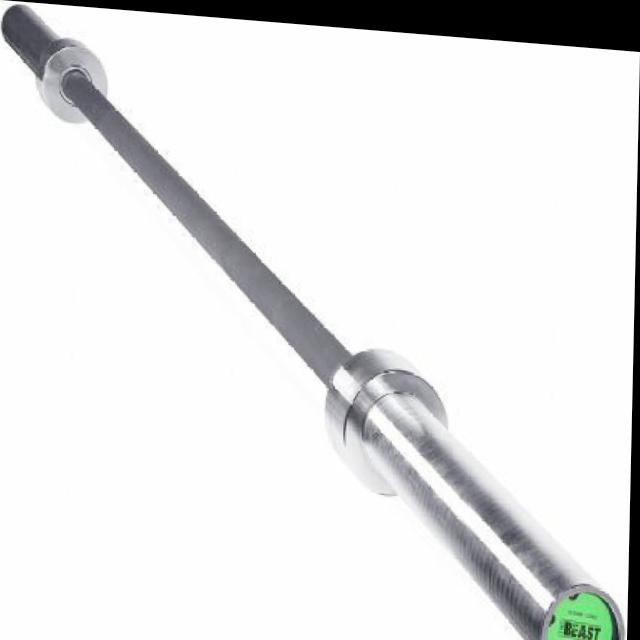barbell: (315, 330, 634, 640)
